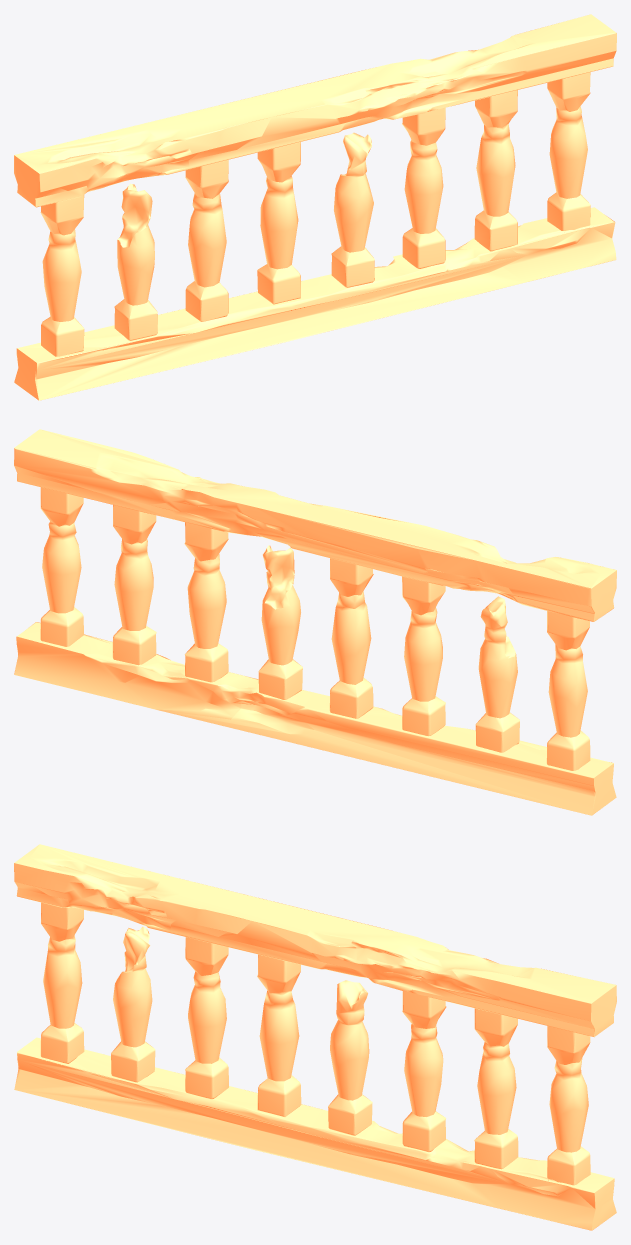
The model's file is SM_Pillars_Large.fbx.
The picture shows the model from 3 angles, top to bottom: view 1: azimuth 30°, elevation 25°; view 2: azimuth 150°, elevation 25°; view 3: azimuth 330°, elevation 25°; orthographic projection.
Parts seen in each view (by area): view 1: SM_Pillars_Large_LOD0; view 2: SM_Pillars_Large_LOD0; view 3: SM_Pillars_Large_LOD0.
Part boxes in pixels (box(x1,y1,x2,y2)): SM_Pillars_Large_LOD0: box(14, 14, 616, 400); SM_Pillars_Large_LOD0: box(14, 429, 616, 815); SM_Pillars_Large_LOD0: box(14, 844, 616, 1230).
Size of the model in its own units: 400 by 31.89 by 151.
